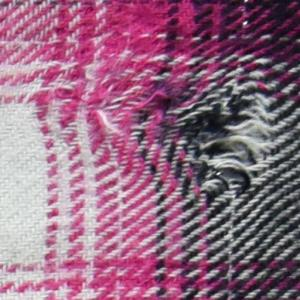Damage: (49, 14, 288, 214)
